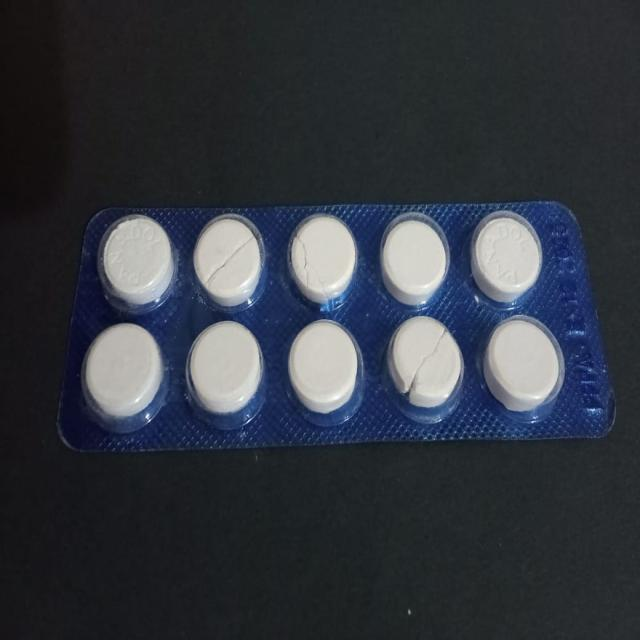defect: (385, 313, 466, 414), (192, 208, 268, 310), (286, 209, 360, 308)
